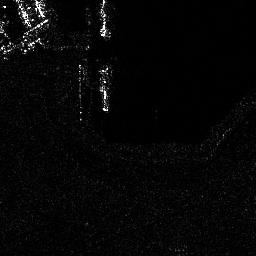ship: (97, 63, 111, 111)
